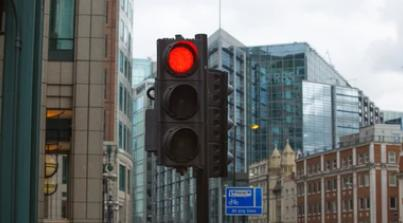red_light: (155, 39, 209, 168)
